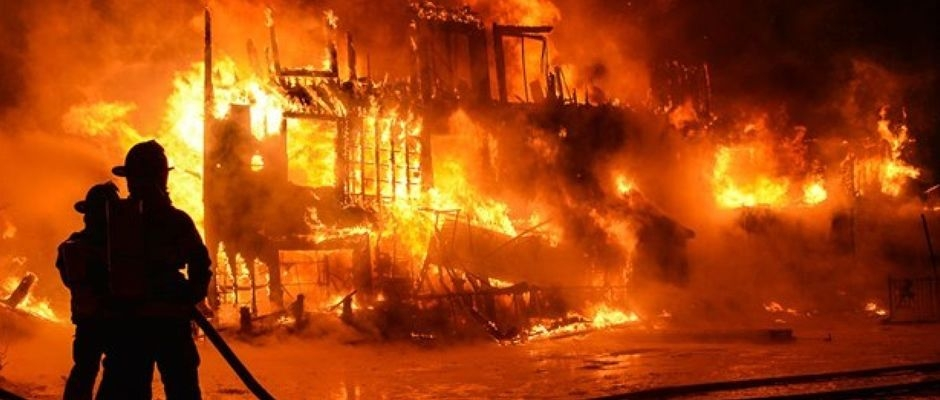Fire: (533, 144, 688, 288), (437, 10, 521, 250), (555, 56, 710, 126), (365, 53, 428, 219), (702, 138, 836, 212), (299, 52, 359, 207), (839, 101, 924, 207), (214, 55, 294, 151), (57, 77, 136, 141), (215, 239, 279, 312), (166, 70, 207, 147), (531, 313, 589, 342), (598, 300, 648, 330)
